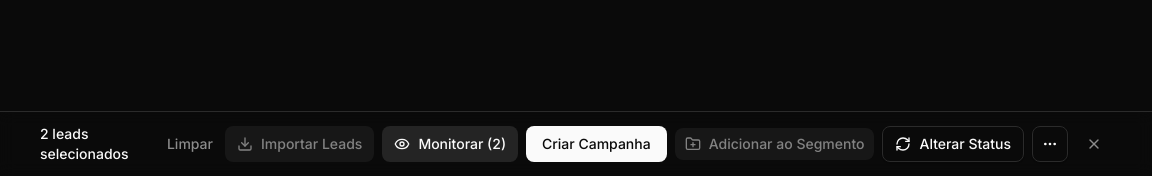
Test: LeadSelectionBar › Story 13.2: Bulk Monitoring › AC#2, Task 7.4: dropdown always shows 'Desativar Monitoramento'
The width and height of the screenshot is (1152, 176).
Click the 1st button named "Mais opções".
click(1050, 144)  # box [1032,126,1068,162]
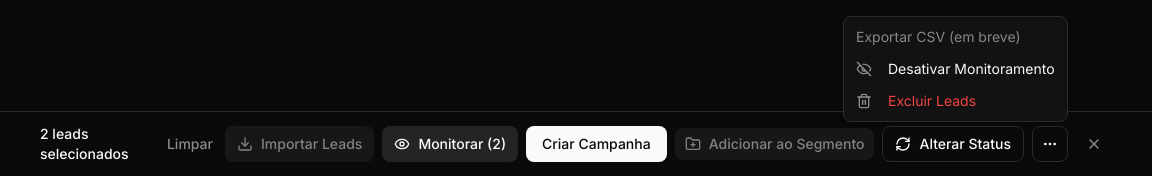
Result: the menu item with test id "bulk-disable-monitor-menu-item" is shown at [856,60,1055,77]
